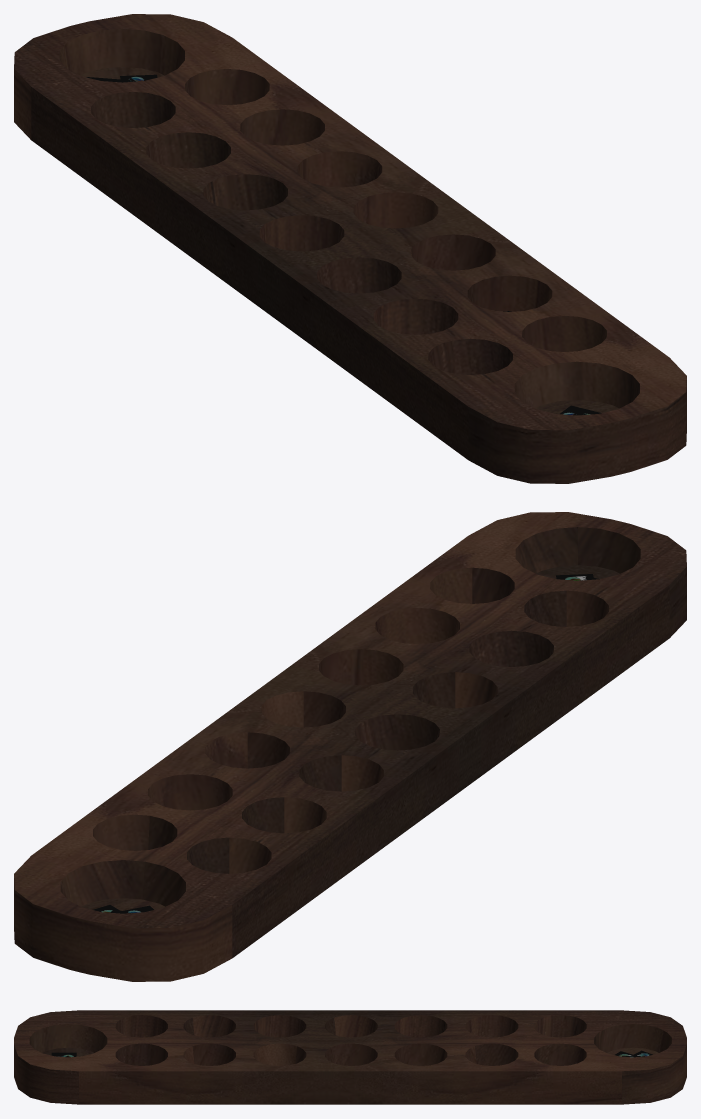
The model's file is LivingRoom_Congkak_Unwrap.fbx.
The picture shows the model from 3 angles, top to bottom: view 1: azimuth 30°, elevation 25°; view 2: azimuth 150°, elevation 25°; view 3: azimuth 270°, elevation 25°; orthographic projection. The views are drawn at different scales.
Parts seen in each view (by area): view 1: Congkak; view 2: Congkak; view 3: Congkak.
Boxes of the visible parts, x1,y1,x2,y2 form: Congkak: (14,14,686,483); Congkak: (14,512,686,981); Congkak: (14,1010,686,1104).
Bounding box in the file's own units: 7.27 × 1.85 × 33.91.
